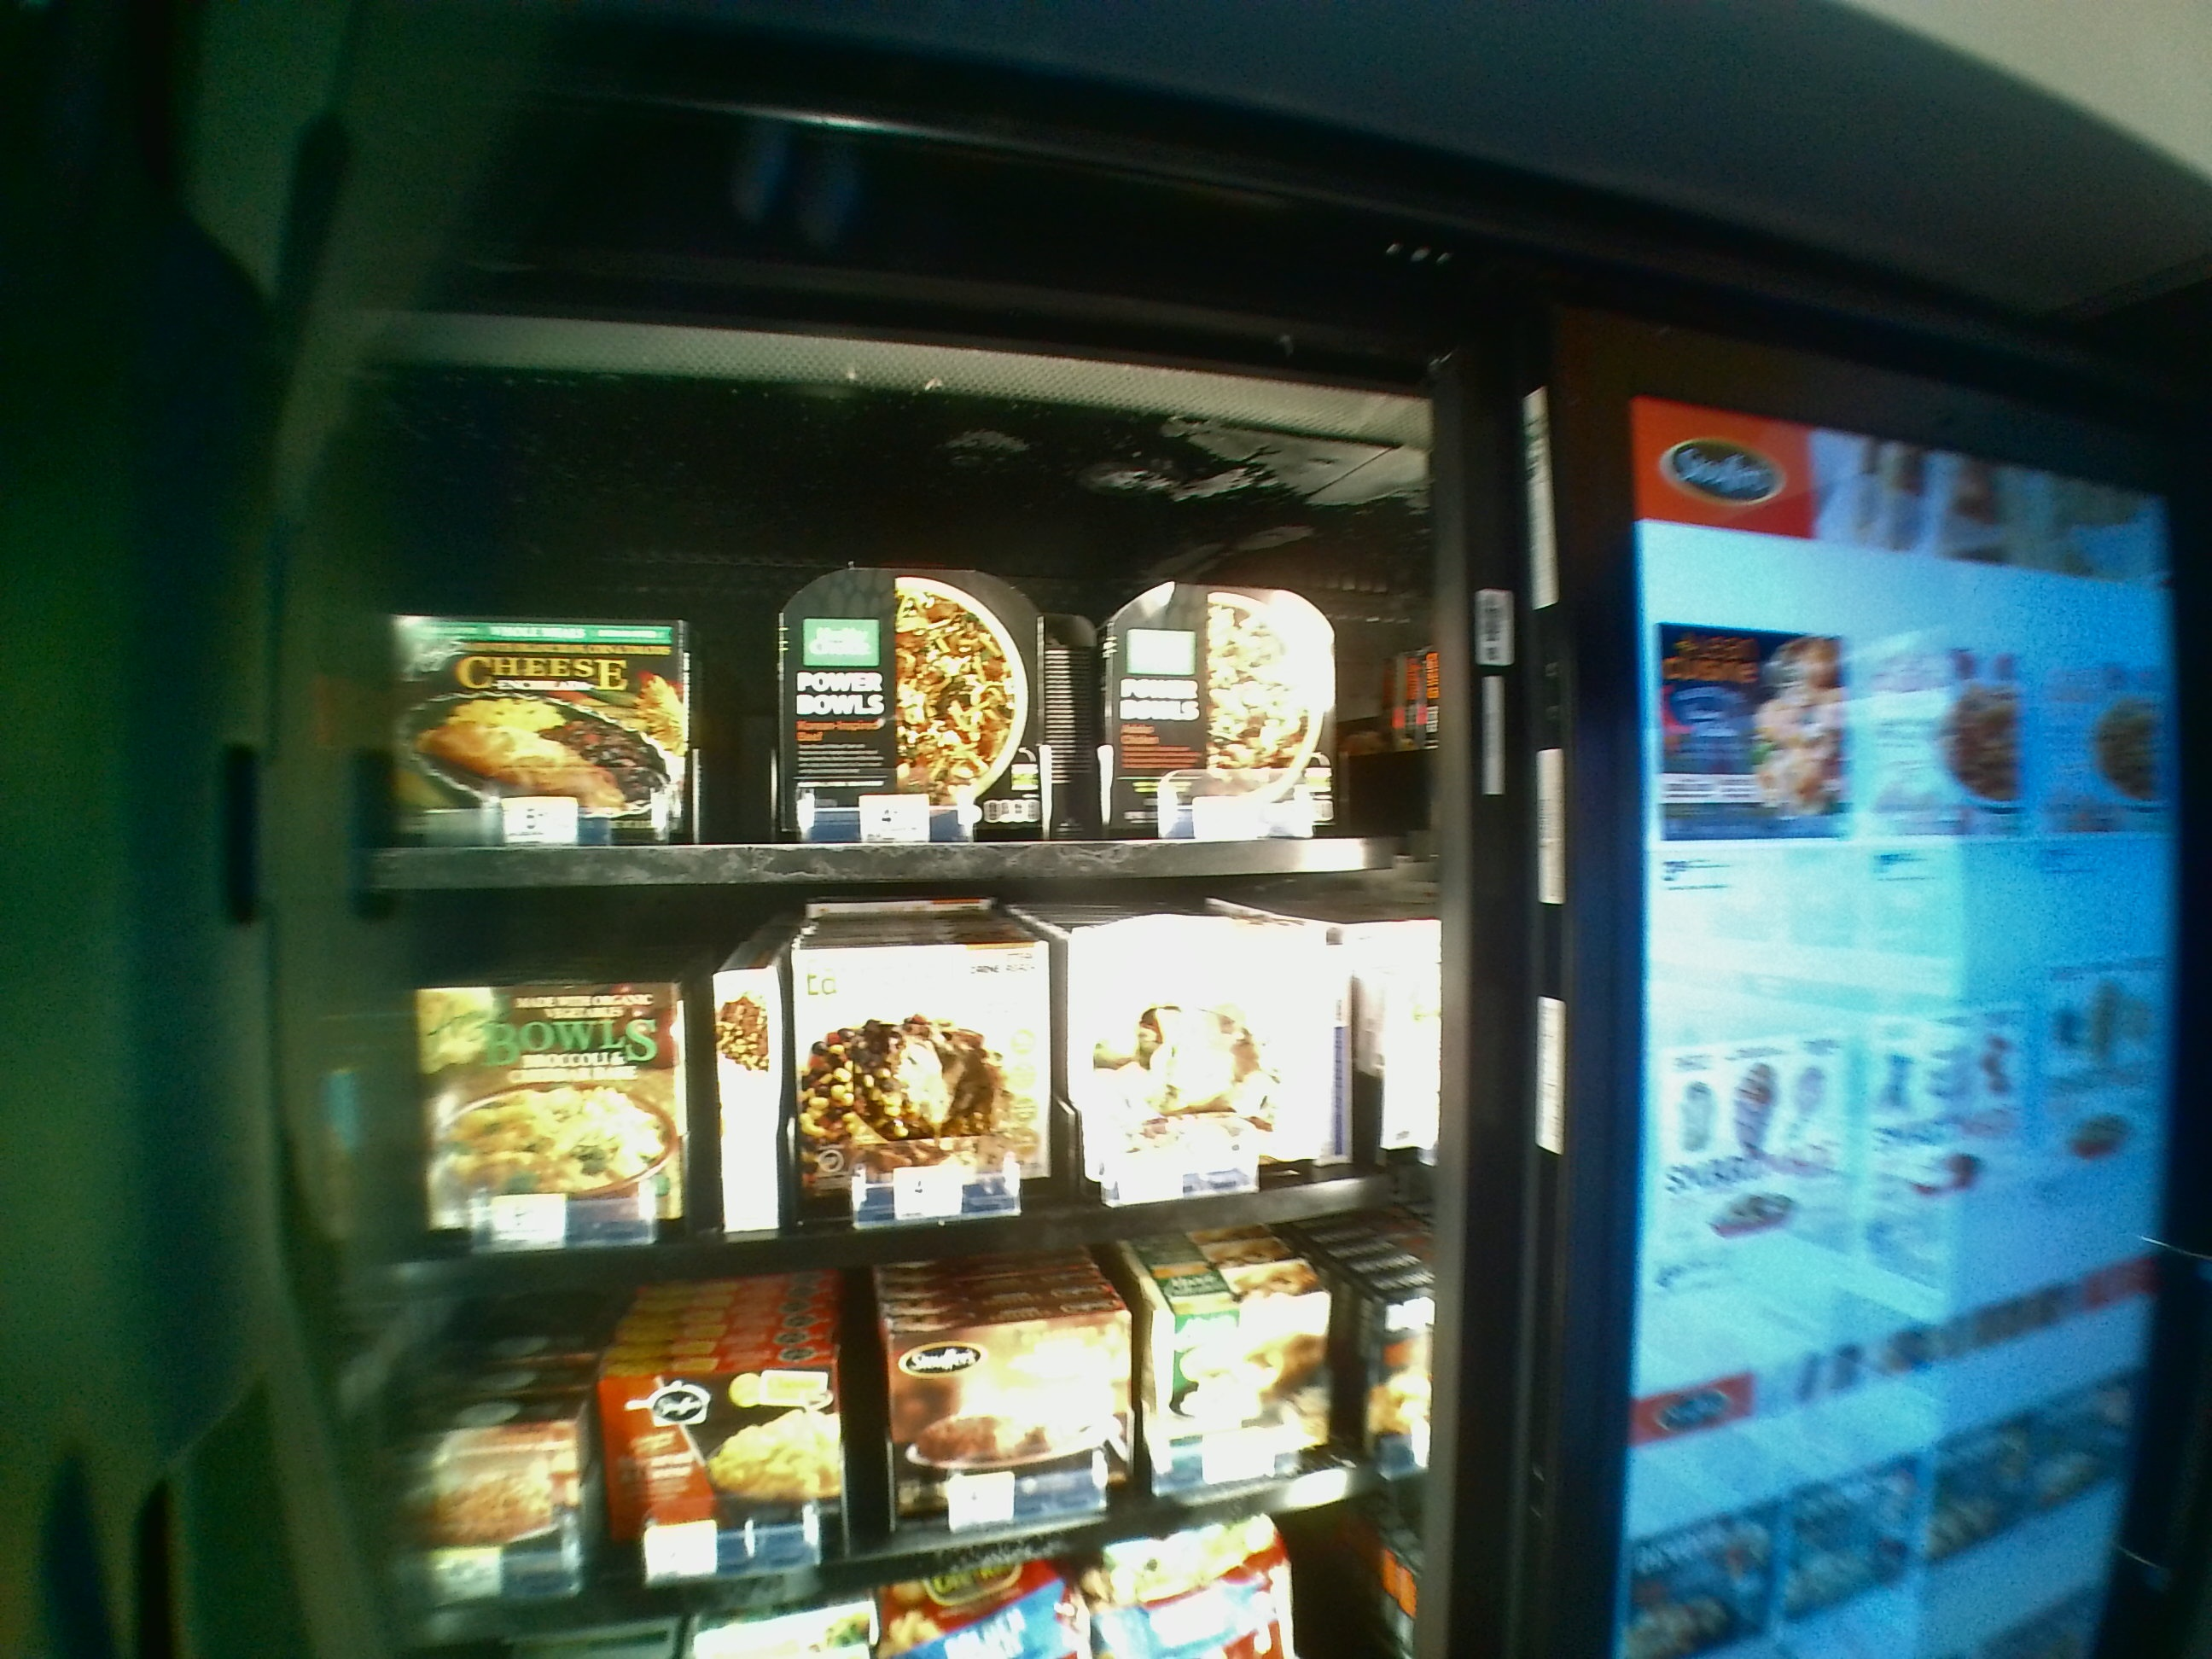shelf: (341, 443, 1423, 897), (343, 917, 1425, 1300)
